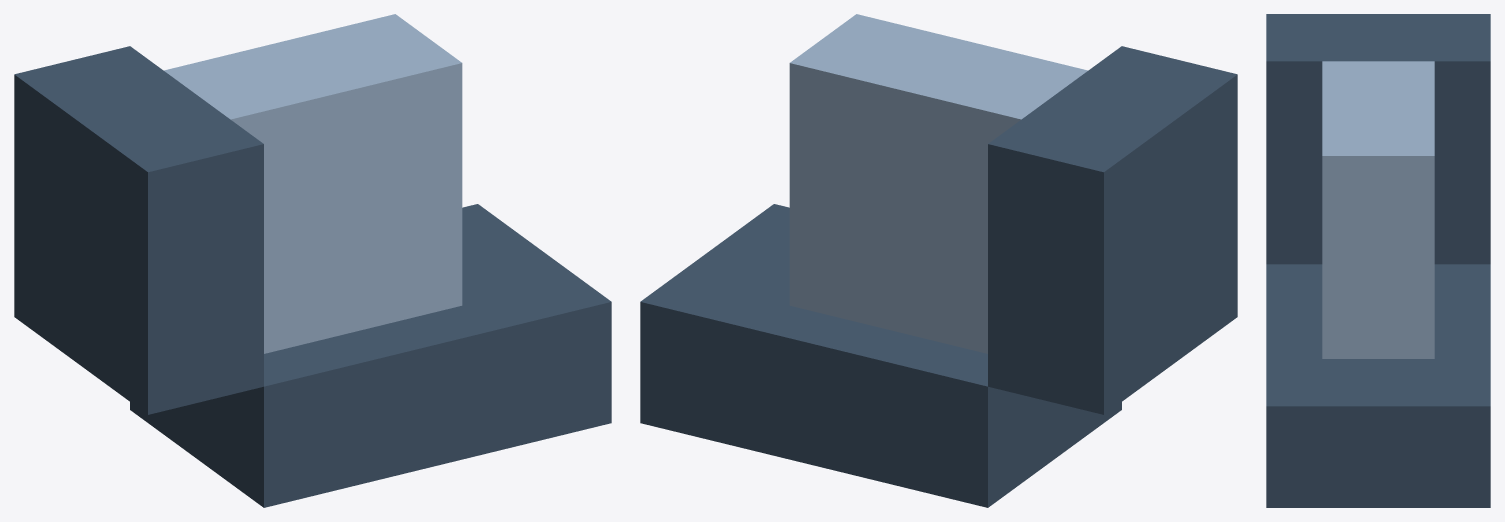
Rendered from Broken Rock4.fbx.
3 views of the same model, side by side, from view 1: azimuth 30°, elevation 25°; view 2: azimuth 150°, elevation 25°; view 3: azimuth 270°, elevation 25° (orthographic). The views are drawn at different scales.
Parts seen in each view (by area): view 1: generated; view 2: generated; view 3: generated.
Part boxes in pixels (x1,y1,x2,y2): generated: (14,14,611,507); generated: (640,14,1237,507); generated: (1266,14,1490,507).
Size of the model in its own units: 40 by 30 by 20.
